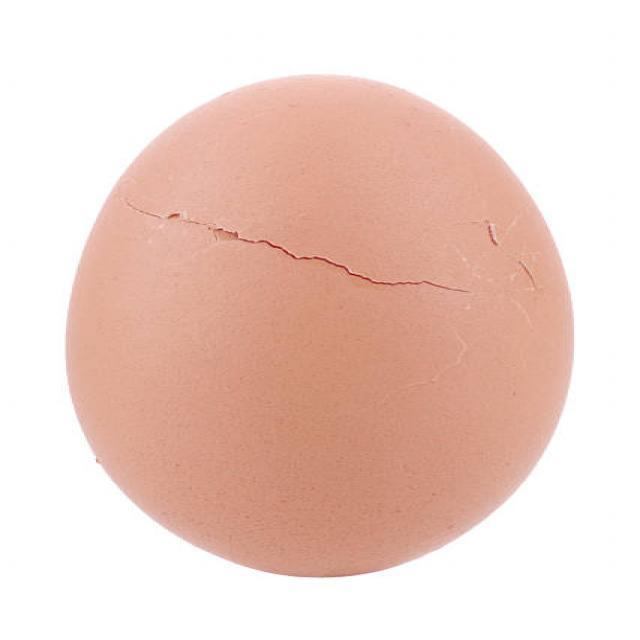biodegradable: (54, 45, 596, 594)
